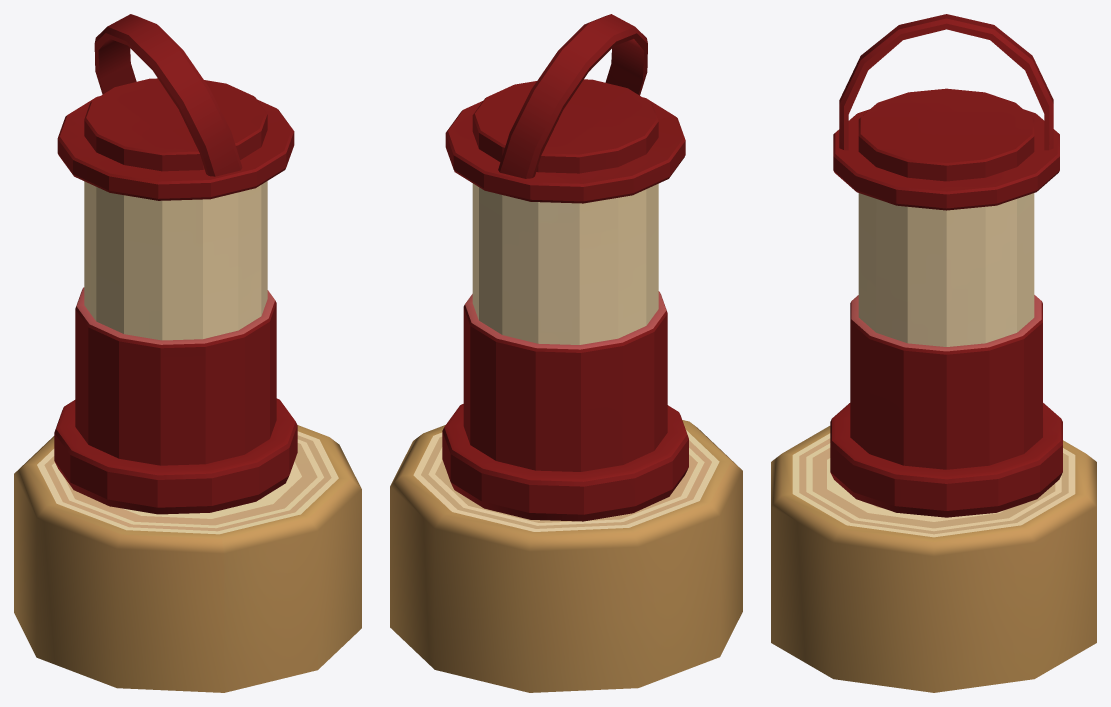
File: lAMPNSTUMP.fbx
The picture shows the model from 3 angles, left to right: view 1: azimuth 30°, elevation 25°; view 2: azimuth 150°, elevation 25°; view 3: azimuth 270°, elevation 25°; orthographic projection. The views are drawn at different scales.
Parts seen in each view (by area): view 1: tent:pCylinder40, tent:pCylinder29; view 2: tent:pCylinder40, tent:pCylinder29; view 3: tent:pCylinder40, tent:pCylinder29.
Part boxes in pixels (x1,y1,x2,y2): tent:pCylinder40: [54, 14, 297, 514]; tent:pCylinder29: [14, 425, 361, 692]; tent:pCylinder40: [442, 14, 688, 521]; tent:pCylinder29: [390, 420, 742, 692]; tent:pCylinder40: [830, 14, 1062, 517]; tent:pCylinder29: [771, 426, 1096, 692].
Size of the model in its own units: 99.19 by 188 by 94.33.
